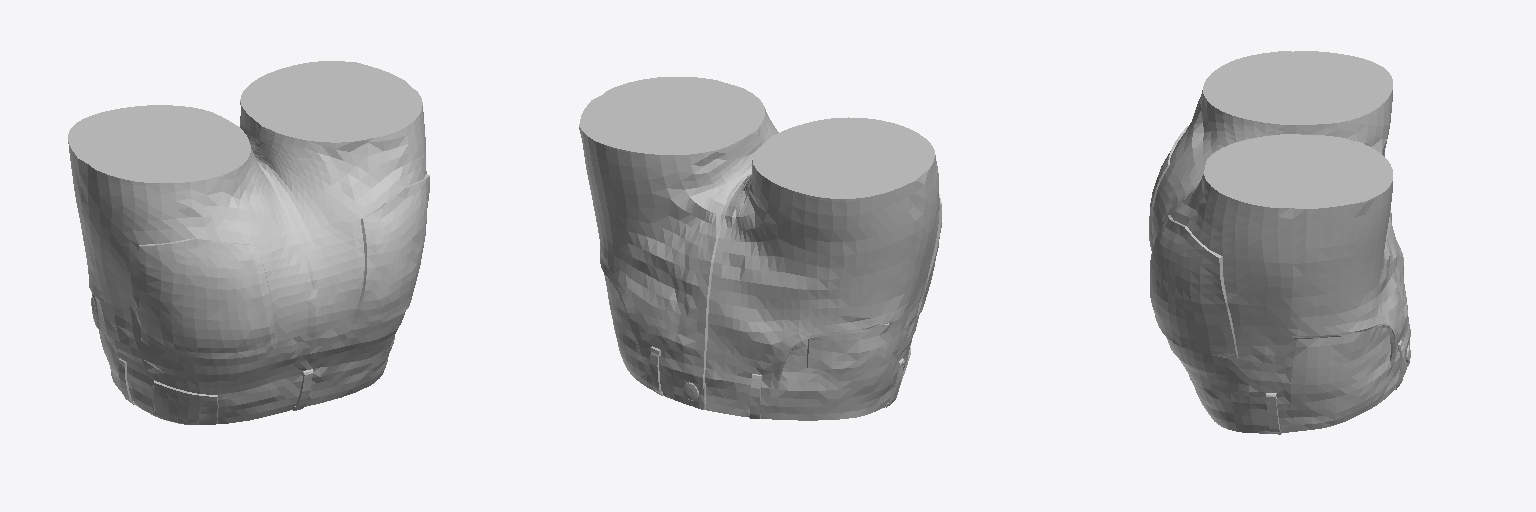
The model's file is pelvis.obj.
3 renders of one model, left to right at view 1: azimuth 30°, elevation 25°; view 2: azimuth 150°, elevation 25°; view 3: azimuth 270°, elevation 25°, orthographic.
Parts seen in each view (by area): view 1: pelvis_Legs_UV1.008; view 2: pelvis_Legs_UV1.008; view 3: pelvis_Legs_UV1.008.
Boxes of the visible parts, x1,y1,x2,y2 form: pelvis_Legs_UV1.008: [68, 61, 429, 424]; pelvis_Legs_UV1.008: [579, 77, 941, 420]; pelvis_Legs_UV1.008: [1149, 51, 1410, 434].
Size of the model in its own units: 0.3307 by 0.2447 by 0.23.